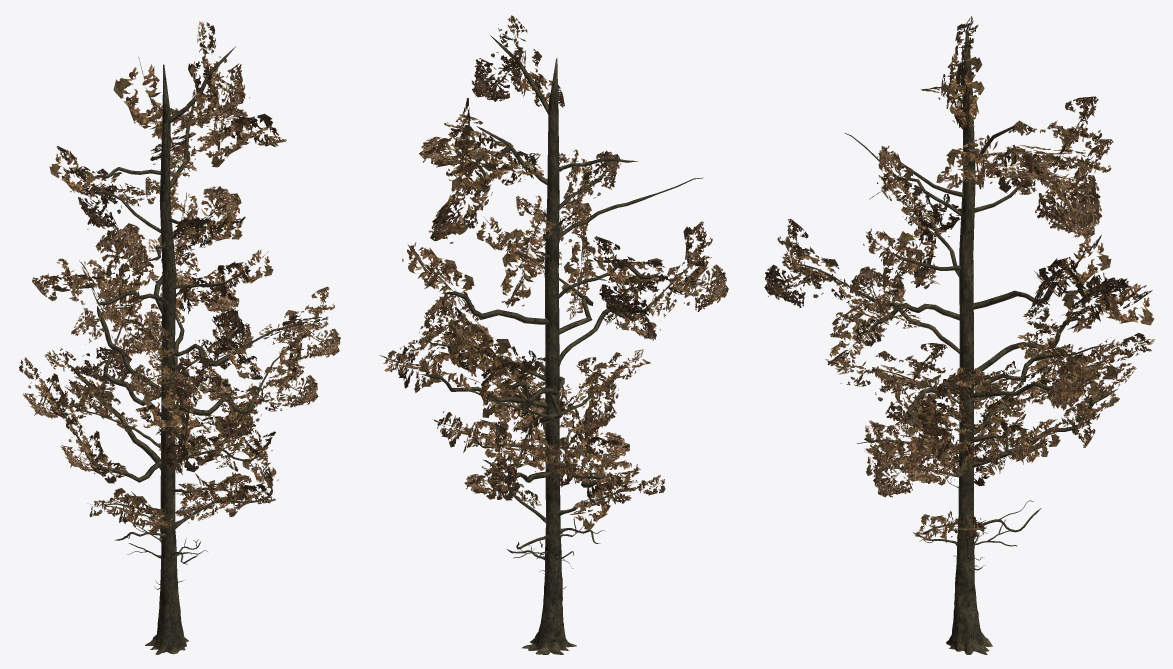
The model's file is tree04.fbx.
3 renders of one model, left to right at view 1: azimuth 30°, elevation 25°; view 2: azimuth 150°, elevation 25°; view 3: azimuth 270°, elevation 25°, orthographic. The views are drawn at different scales.
Visible parts, largest first — view 1: SM_TallTree04_Leaves.mo, SM_TallTree04.mo; view 2: SM_TallTree04_Leaves.mo, SM_TallTree04.mo; view 3: SM_TallTree04_Leaves.mo, SM_TallTree04.mo.
Boxes of the visible parts, x1,y1,x2,y2 form: SM_TallTree04_Leaves.mo: (19,21,340,535); SM_TallTree04.mo: (41,46,313,654); SM_TallTree04_Leaves.mo: (379,15,728,529); SM_TallTree04.mo: (420,35,702,654); SM_TallTree04_Leaves.mo: (764,16,1155,543); SM_TallTree04.mo: (782,30,1118,654).
Bounding box in the file's own units: 1190 × 2644 × 1471.
